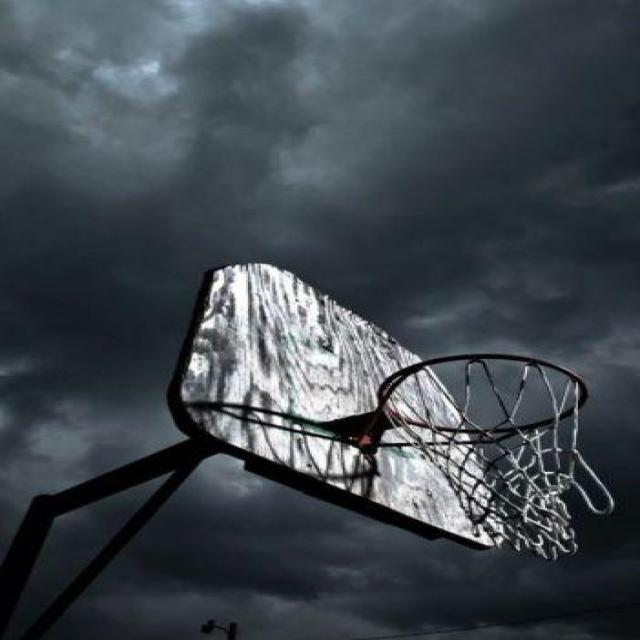hoop: (341, 354, 640, 563)
